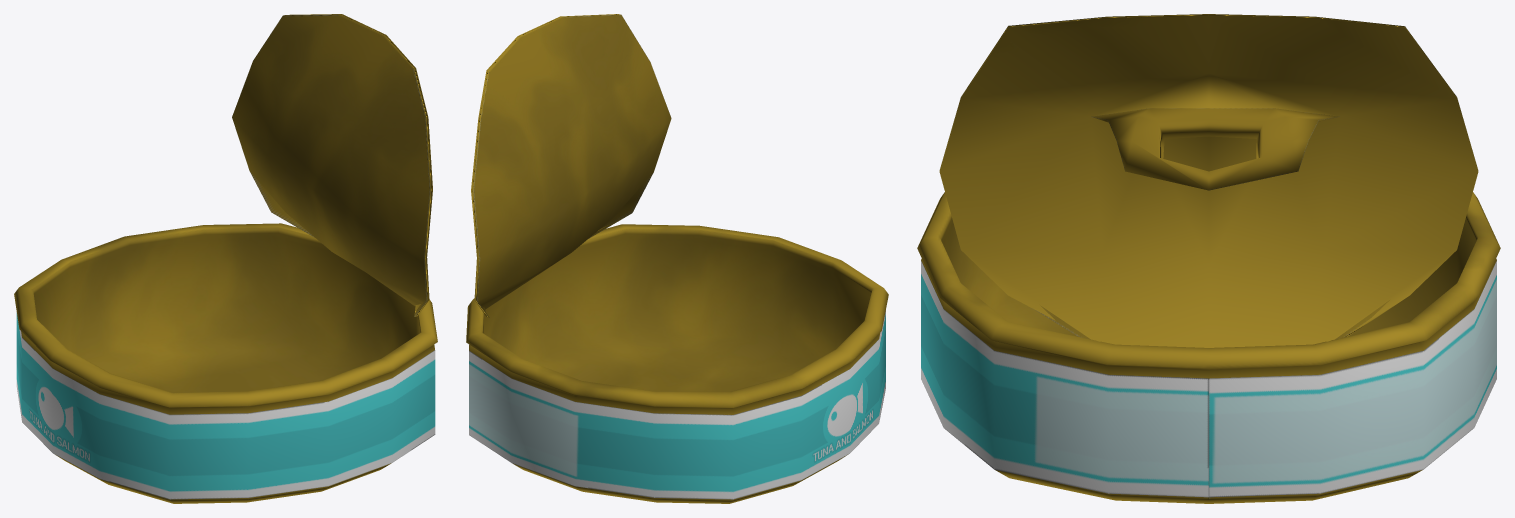
The model's file is Tuna Can.fbx.
The picture shows the model from 3 angles, left to right: view 1: azimuth 30°, elevation 25°; view 2: azimuth 150°, elevation 25°; view 3: azimuth 270°, elevation 25°; orthographic projection. The views are drawn at different scales.
Visible parts, largest first — view 1: pCube3; view 2: pCube3; view 3: pCube3.
Boxes of the visible parts, x1=… form: pCube3: x1=14, y1=14, x2=437, y2=503; pCube3: x1=466, y1=14, x2=888, y2=503; pCube3: x1=917, y1=14, x2=1500, y2=503.
Bounding box in the file's own units: 1.95 × 1.85 × 2.
Materials: 2 (2 with a texture image).
